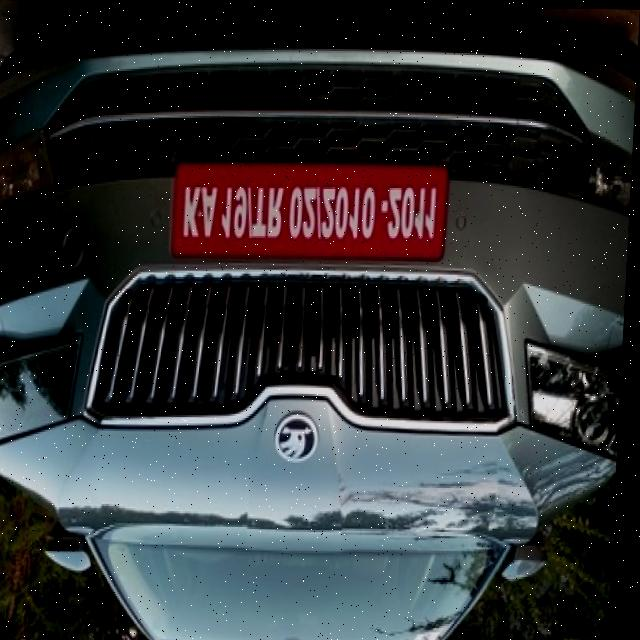plate: (175, 160, 451, 258)
